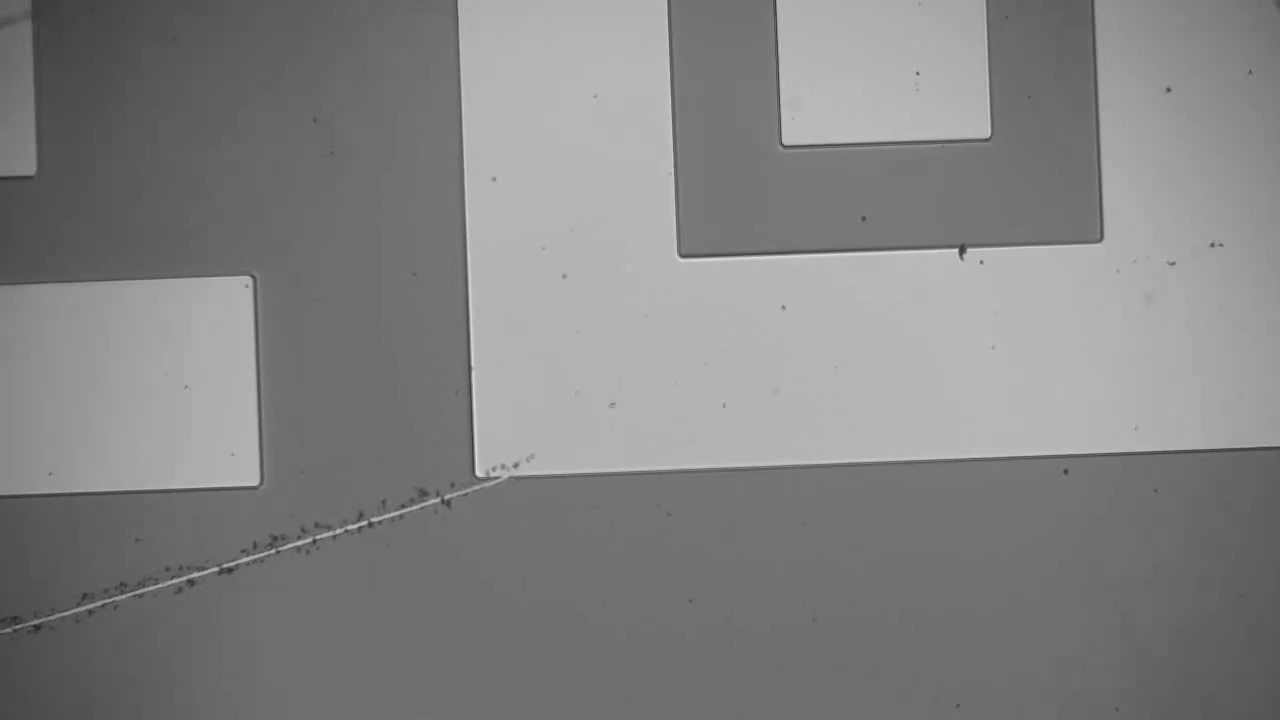scratch: (5, 477, 513, 643)
